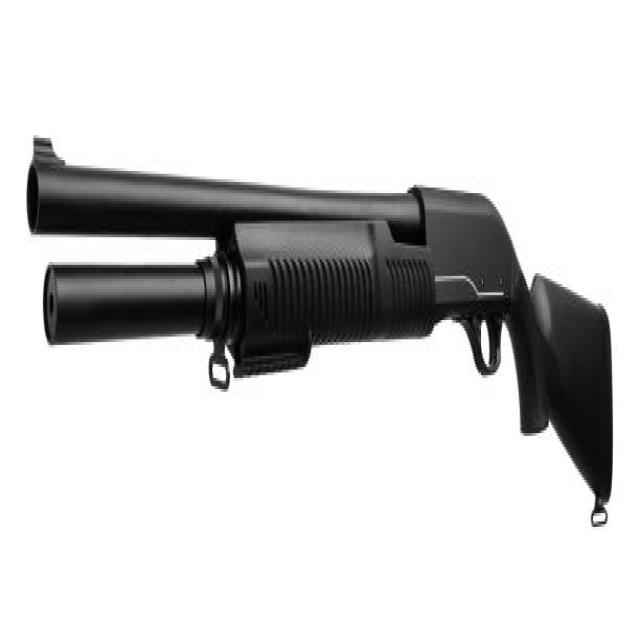rifle: (27, 118, 619, 553)
